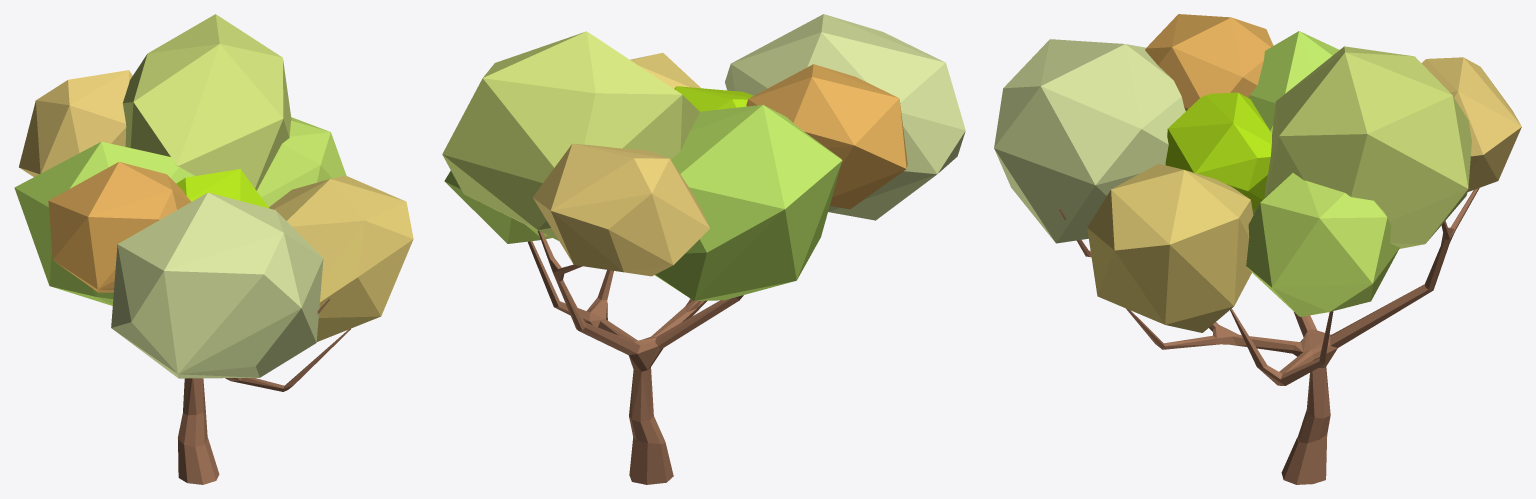
Rendered from Tree01.fbx.
3 views of the same model, side by side, from view 1: azimuth 30°, elevation 25°; view 2: azimuth 150°, elevation 25°; view 3: azimuth 270°, elevation 25° (orthographic). The views are drawn at different scales.
Parts seen in each view (by area): view 1: Icosphere, Icosphere.005, Icosphere.003, Icosphere.001, Icosphere.006, Icosphere.002, Icosphere.004, Cube, Icosphere.007, Cube.001; view 2: Icosphere.005, Icosphere.002, Icosphere, Icosphere.006, Icosphere.001, Cube, Icosphere.004, Cube.001, Icosphere.007, Icosphere.003; view 3: Icosphere.005, Icosphere, Icosphere.003, Icosphere.004, Cube, Icosphere.007, Icosphere.001, Icosphere.006, Icosphere.002, Cube.001.
Part boxes in pixels (bbox=[...]): Icosphere: bbox=[111, 192, 323, 378]; Icosphere.005: bbox=[122, 14, 291, 190]; Icosphere.003: bbox=[269, 175, 413, 341]; Icosphere.001: bbox=[48, 162, 191, 292]; Icosphere.006: bbox=[19, 70, 132, 176]; Icosphere.002: bbox=[14, 141, 194, 305]; Icosphere.004: bbox=[257, 117, 346, 207]; Cube: bbox=[178, 298, 350, 447]; Icosphere.007: bbox=[176, 169, 268, 208]; Cube.001: bbox=[178, 437, 219, 484]; Icosphere.005: bbox=[442, 31, 699, 240]; Icosphere.002: bbox=[654, 105, 842, 300]; Icosphere: bbox=[725, 14, 965, 220]; Icosphere.006: bbox=[533, 143, 709, 276]; Icosphere.001: bbox=[746, 64, 907, 209]; Cube: bbox=[528, 230, 743, 443]; Icosphere.004: bbox=[444, 170, 551, 243]; Cube.001: bbox=[629, 437, 673, 484]; Icosphere.007: bbox=[674, 86, 753, 111]; Icosphere.003: bbox=[630, 53, 700, 88]; Icosphere.005: bbox=[1264, 46, 1471, 248]; Icosphere: bbox=[994, 39, 1185, 243]; Icosphere.003: bbox=[1087, 163, 1253, 332]; Icosphere.004: bbox=[1246, 173, 1399, 316]; Cube: bbox=[1058, 188, 1479, 443]; Icosphere.007: bbox=[1165, 92, 1271, 209]; Icosphere.001: bbox=[1145, 14, 1273, 110]; Icosphere.006: bbox=[1421, 57, 1521, 191]; Icosphere.002: bbox=[1248, 31, 1339, 214]; Cube.001: bbox=[1281, 434, 1327, 484].
Size of the model in its own units: 774 by 874 by 941.
